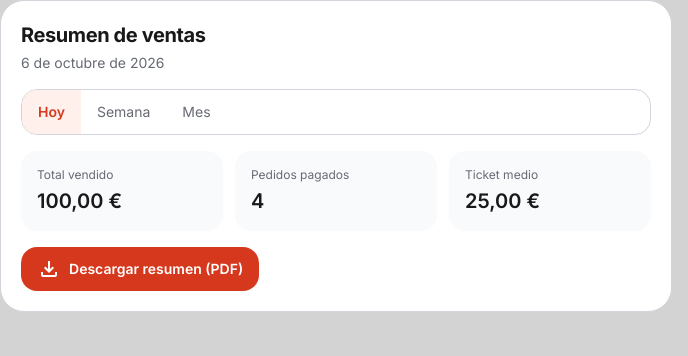
SalesReportPanel › muestra un aviso si no se puede generar el PDF
The image size is (688, 356).
Click the button with class "sales-report__download".
click(140, 269)  # box [21, 247, 259, 291]
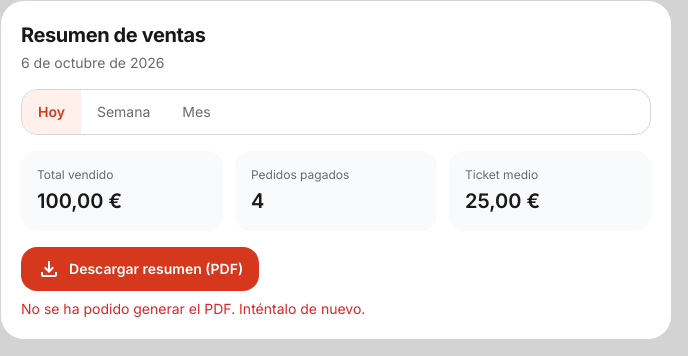
expect the message "No se ha podido generar el PDF. Inténtalo de nuevo." is shown: met, box [21, 299, 365, 319]
